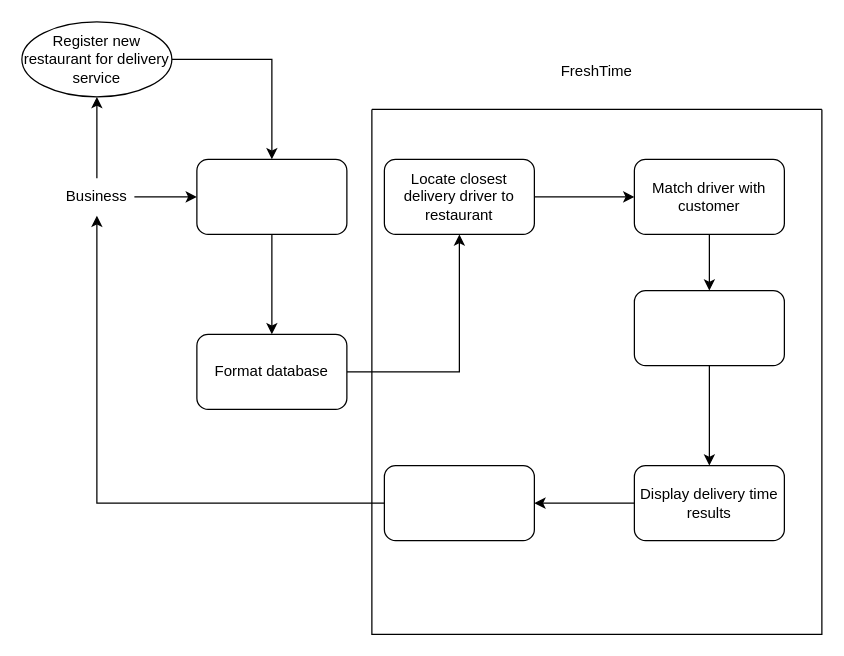
The diagram is 844 pixels wide and 656 high, and some of its shapes have lost their labels. The box of each missing label's shape, as (x1, y1, x2, y2) in pixels:
Calculate average delivery time: (633, 289, 784, 366)
Export delivery time results: (383, 464, 534, 541)
Import dataset of restaurants: (196, 158, 347, 234)
